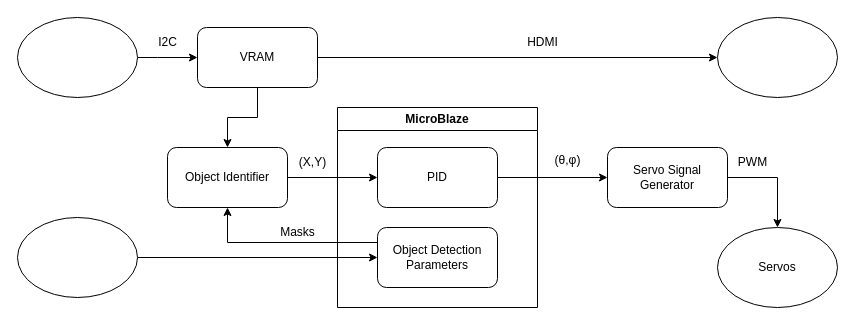
Image size: 855x325. Some labels were removed from this diagram. The centre of each missing label's shape, as x and y in pixels:
Camera: the point at 77,57
Display: the point at 777,57
User I/O: the point at 77,257
